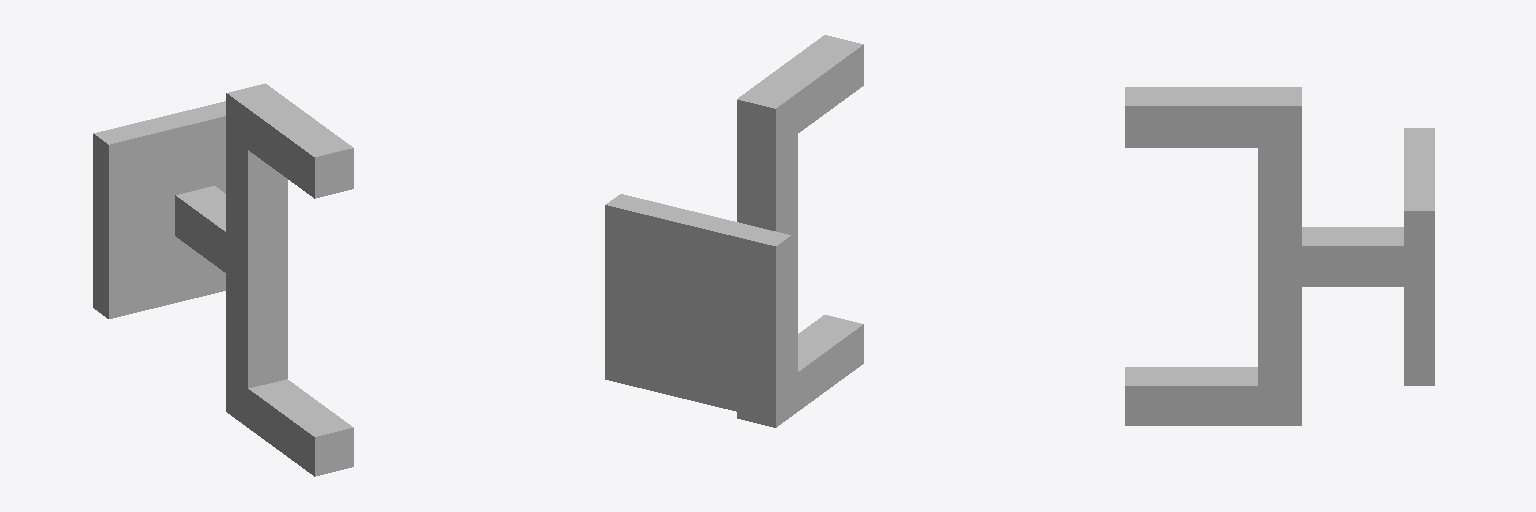
Rendered from Support.obj.
3 views of the same model, side by side, from view 1: azimuth 30°, elevation 25°; view 2: azimuth 150°, elevation 25°; view 3: azimuth 270°, elevation 25° (orthographic).
Size of the model in its own units: 4.48 by 8.01 by 7.03.